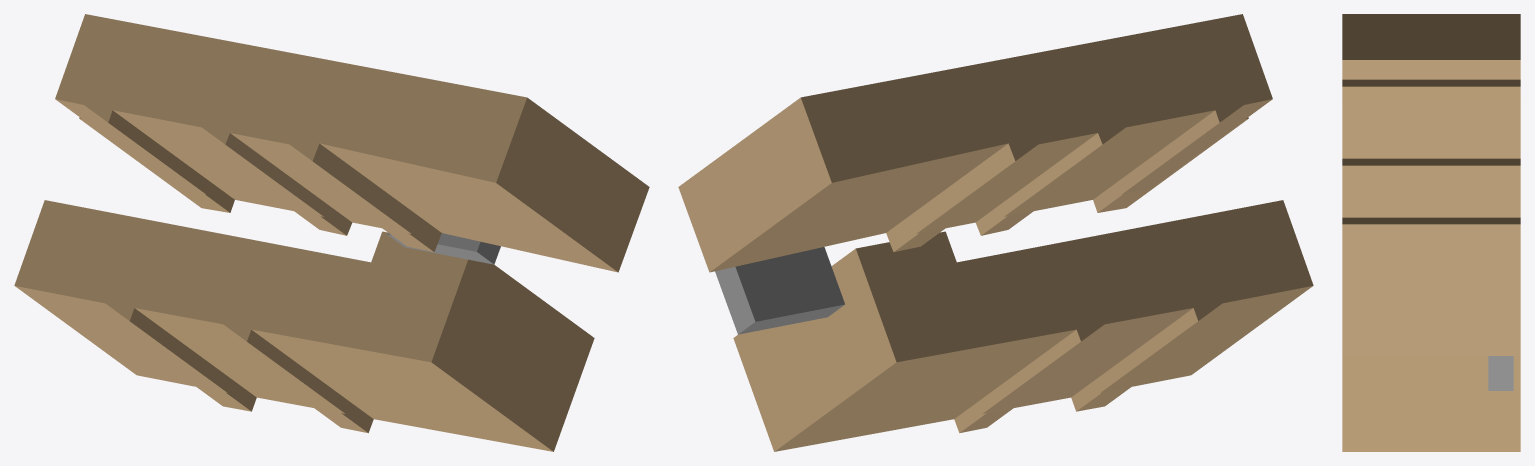
The picture shows the model from 3 angles, left to right: view 1: azimuth 30°, elevation 25°; view 2: azimuth 150°, elevation 25°; view 3: azimuth 270°, elevation 25°; orthographic projection. The views are drawn at different scales.
Parts seen in each view (by area): view 1: 0_1_0_0_2_0_1_2_1; view 2: 0_1_0_0_2_0_1_2_1; view 3: 0_1_0_0_2_0_1_2_1.
Part boxes in pixels (box(x1,y1,x2,y2)): 0_1_0_0_2_0_1_2_1: box(14, 14, 649, 451); 0_1_0_0_2_0_1_2_1: box(678, 14, 1313, 451); 0_1_0_0_2_0_1_2_1: box(1342, 14, 1520, 451).
Size of the model in its own units: 50.8 by 40.96 by 21.
